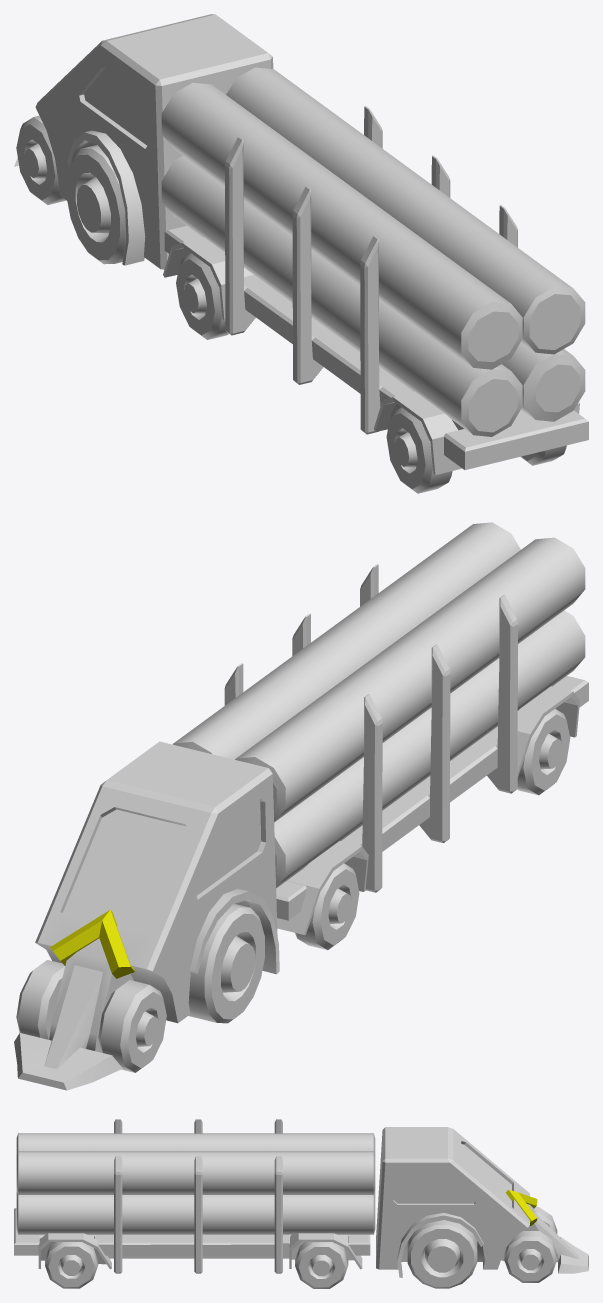
The model's file is obstacle-lumber_truck_MRA.glb.
3 renders of one model, top to bottom at view 1: azimuth 30°, elevation 25°; view 2: azimuth 150°, elevation 25°; view 3: azimuth 270°, elevation 25°, orthographic. The views are drawn at different scales.
Parts seen in each view (by area): view 1: obstacle-lumber_truck_MRA; view 2: obstacle-lumber_truck_MRA; view 3: obstacle-lumber_truck_MRA.
Boxes of the visible parts, left/top/right/bottom form: obstacle-lumber_truck_MRA: left=14, top=14, right=588, bottom=493; obstacle-lumber_truck_MRA: left=14, top=522, right=588, bottom=1090; obstacle-lumber_truck_MRA: left=14, top=1119, right=588, bottom=1288.
Size of the model in its own units: 3.27 by 4.48 by 17.69.
